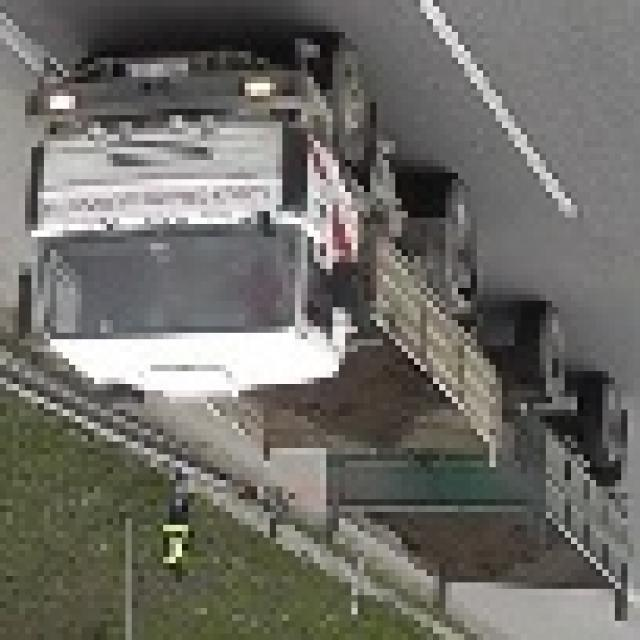truck: (25, 32, 640, 627)
